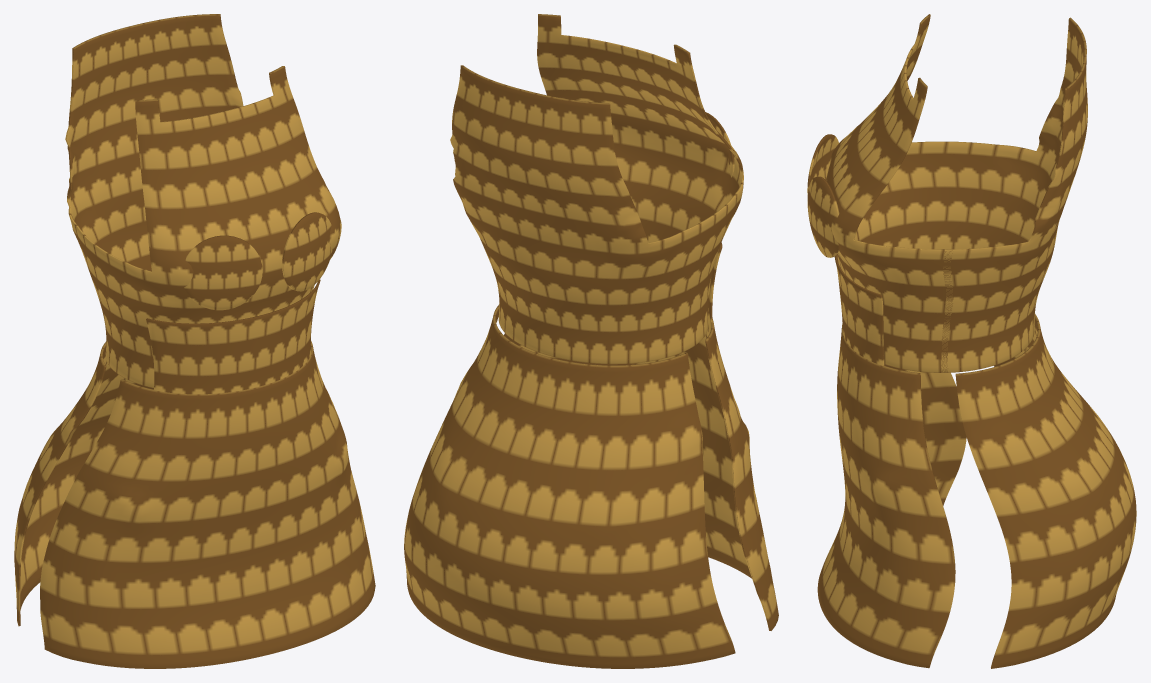
Rendered from _fixture_armor_mingguang.glb.
3 renders of one model, left to right at view 1: azimuth 30°, elevation 25°; view 2: azimuth 150°, elevation 25°; view 3: azimuth 270°, elevation 25°, orthographic. The views are drawn at different scales.
Visible parts, largest first — view 1: _fixture_armor_mingguang; view 2: _fixture_armor_mingguang; view 3: _fixture_armor_mingguang.
Part boxes in pixels (x1,y1,x2,y2): _fixture_armor_mingguang: (14,14,375,668); _fixture_armor_mingguang: (404,14,778,668); _fixture_armor_mingguang: (807,14,1136,668).
Size of the model in its own units: 0.227 by 0.3578 by 0.1986.
Materials: 1 (1 with a texture image).
